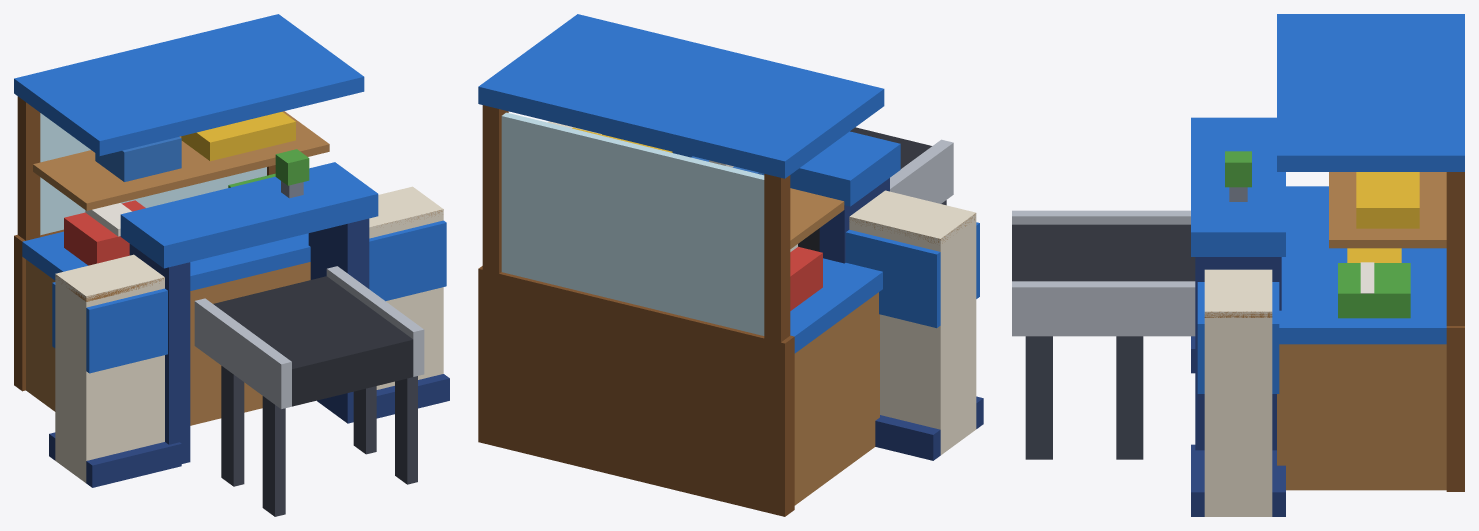
File: counter-exit.glb
3 views of the same model, side by side, from view 1: azimuth 30°, elevation 25°; view 2: azimuth 150°, elevation 25°; view 3: azimuth 270°, elevation 25° (orthographic). The views are drawn at different scales.
Parts seen in each view (by area): view 1: counter-exit; view 2: counter-exit; view 3: counter-exit.
Boxes of the visible parts, x1,y1,x2,y2 form: counter-exit: [14, 14, 449, 516]; counter-exit: [478, 14, 983, 516]; counter-exit: [1012, 14, 1464, 516].
Bounding box in the file's own units: 1 × 0.82 × 1.
Materials: 1 (1 with a texture image).
